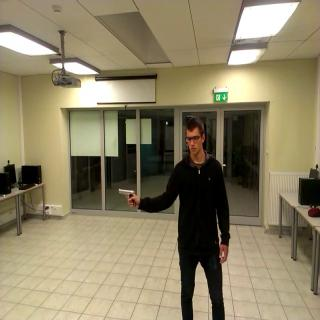gun: (115, 185, 139, 208)
